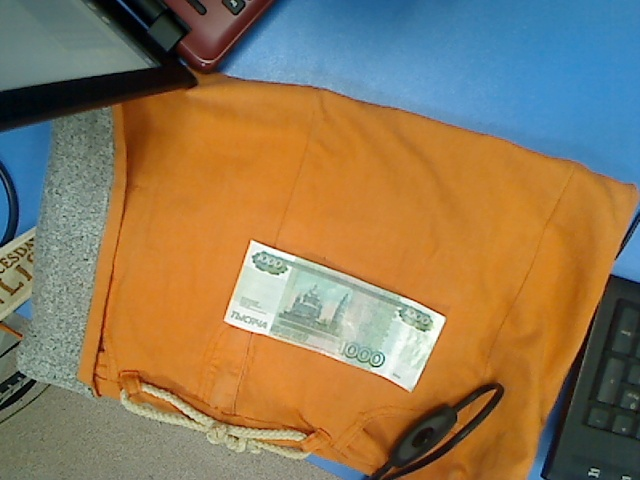banknotes: (221, 238, 449, 395)
